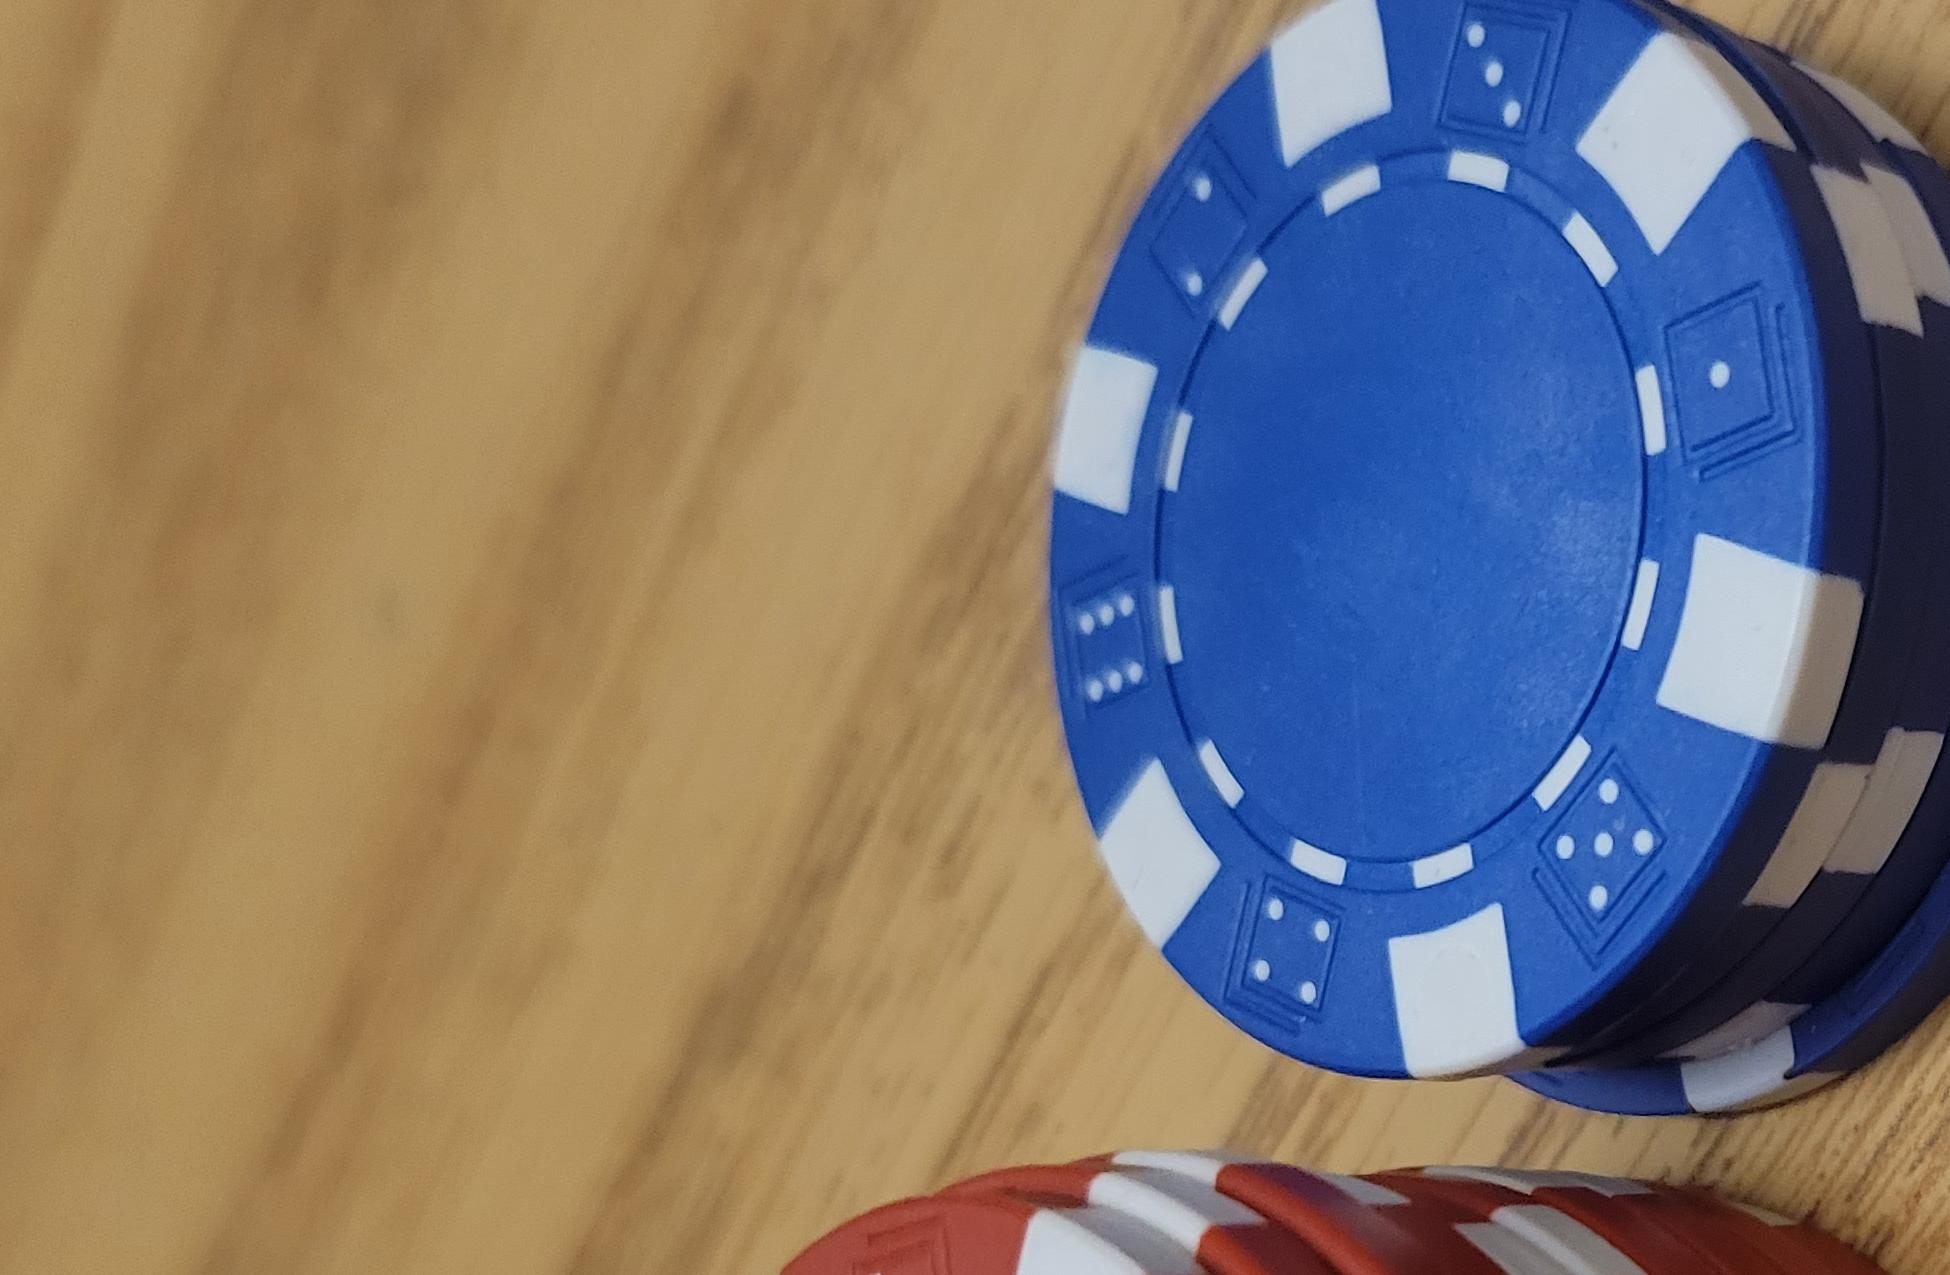Chip: (1, 151, 1437, 1275)
